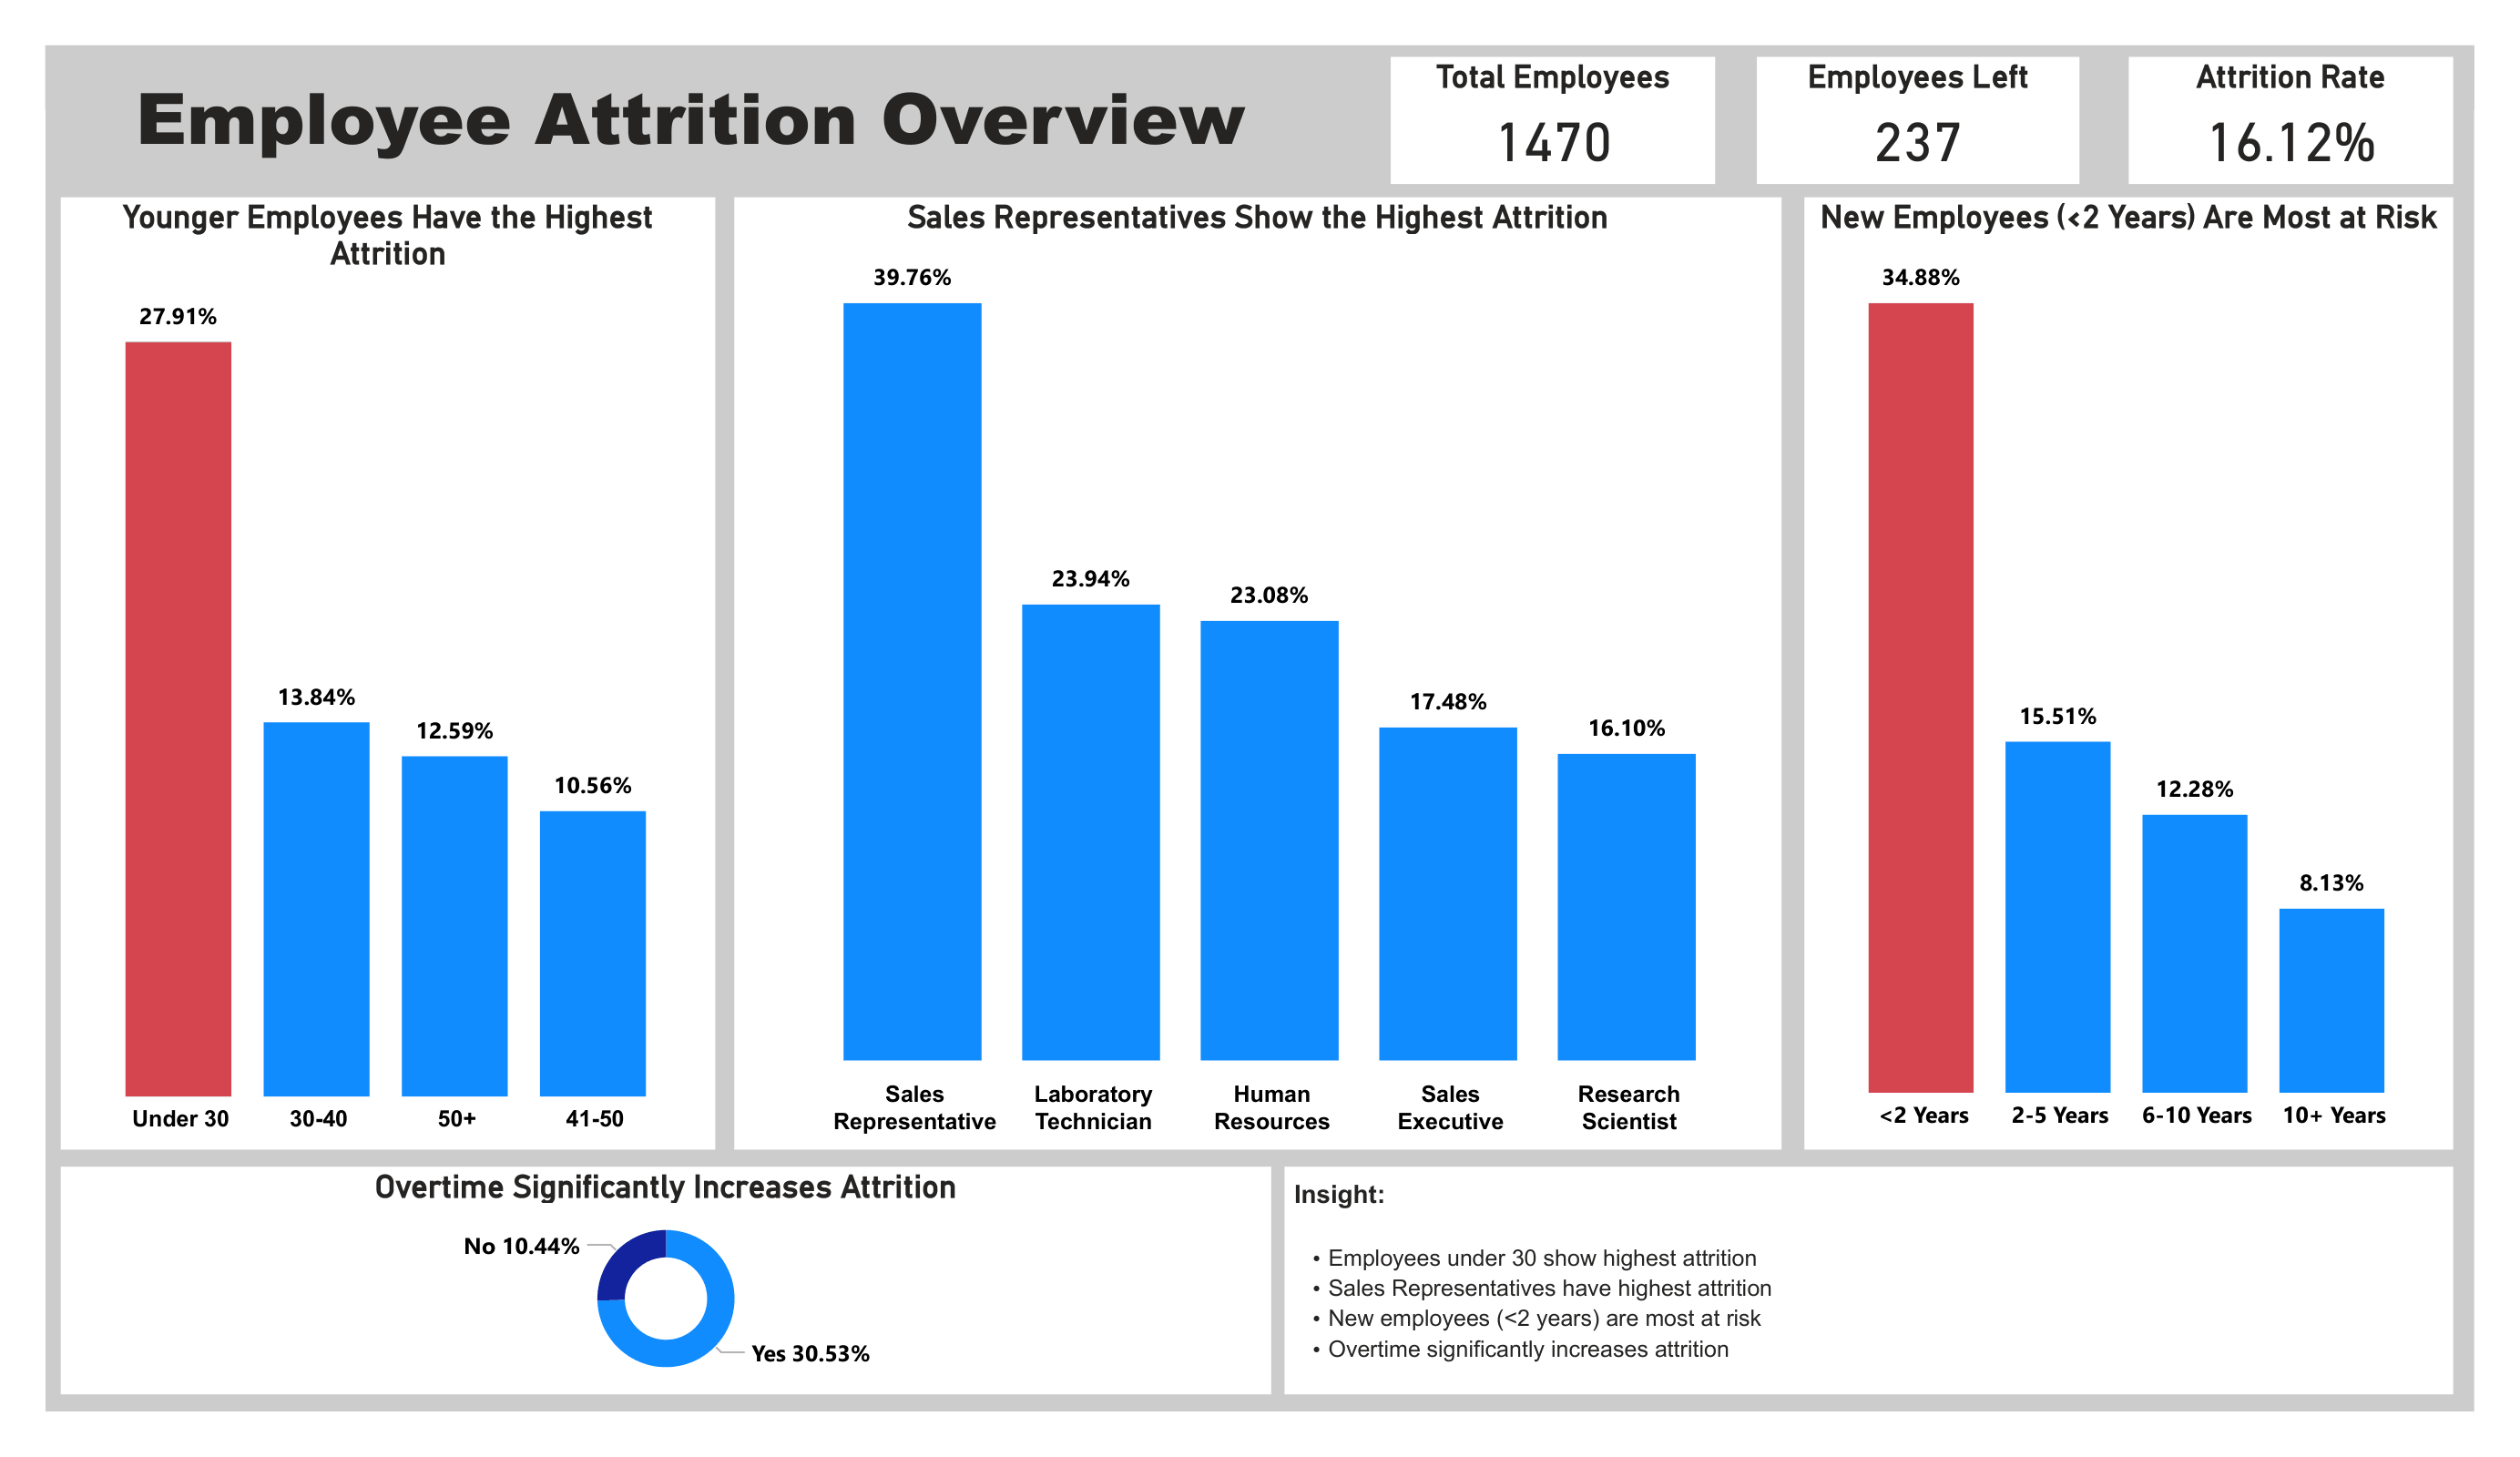

The page's visual inventory and layout, read from the dashboard file:
{"tool":"powerbi","page":{"name":"Overview","canvas":[1280,720],"ordinal":0},"visuals":[{"type":"card","title":"Total Employees","fields":{"Values":["HR_Data1.Total Employees"]},"box":[709.2,6.2,170.8,66.9],"z":0},{"type":"card","title":"Employees Left","fields":{"Values":["HR_Data1.Employee Left"]},"box":[901.5,6.2,170.8,66.9],"z":1000},{"type":"card","title":"Attrition Rate","fields":{"Values":["HR_Data1.Attrition Rate"]},"box":[1098.2,6.4,170.9,66.4],"z":2000},{"type":"clusteredColumnChart","title":"Younger Employees Have the Highest Attrition","fields":{"Y":["HR_Data1.Attrition Rate"],"Category":["HR_Data1.Age_Group"]},"box":[8.2,80,344.5,501.8],"z":3000},{"type":"clusteredColumnChart","title":"Sales Representatives Show the Highest Attrition","fields":{"Y":["HR_Data1.Attrition Rate"],"Category":["HR_Data1.JobRole"]},"box":[362.7,80,552.7,501.8],"z":4000},{"type":"donutChart","title":"Overtime Significantly Increases Attrition","fields":{"Category":["HR_Data1.OverTime"],"Y":["HR_Data1.Attrition Rate"]},"box":[8.2,590.9,638.2,120],"z":5000},{"type":"textbox","box":[652.7,590.9,616.4,120],"z":6000},{"type":"textbox","box":[19.1,6.4,641.8,67.3],"z":7000},{"type":"clusteredColumnChart","title":"New Employees (<2 Years) Are Most at Risk","fields":{"Category":["HR_Data1.Tenure_Group"],"Y":["HR_Data1.Attrition Rate"]},"box":[927.3,80,341.8,501.8],"z":8000}]}

Visuals, with their boxes on the page's 1280x720 design canvas (x1, y1, x2, y2). These are canvas units, not pixel positions in the 2520x1457 screenshot, which may show the page scaled, cropped or inside an application window:
"Total Employees" card: <region>709, 6, 880, 73</region>
"Employees Left" card: <region>902, 6, 1072, 73</region>
"Attrition Rate" card: <region>1098, 6, 1269, 73</region>
"Younger Employees Have the Highest Attrition" clusteredColumnChart: <region>8, 80, 353, 582</region>
"Sales Representatives Show the Highest Attrition" clusteredColumnChart: <region>363, 80, 915, 582</region>
"Overtime Significantly Increases Attrition" donutChart: <region>8, 591, 646, 711</region>
textbox: <region>653, 591, 1269, 711</region>
textbox: <region>19, 6, 661, 74</region>
"New Employees (<2 Years) Are Most at Risk" clusteredColumnChart: <region>927, 80, 1269, 582</region>
